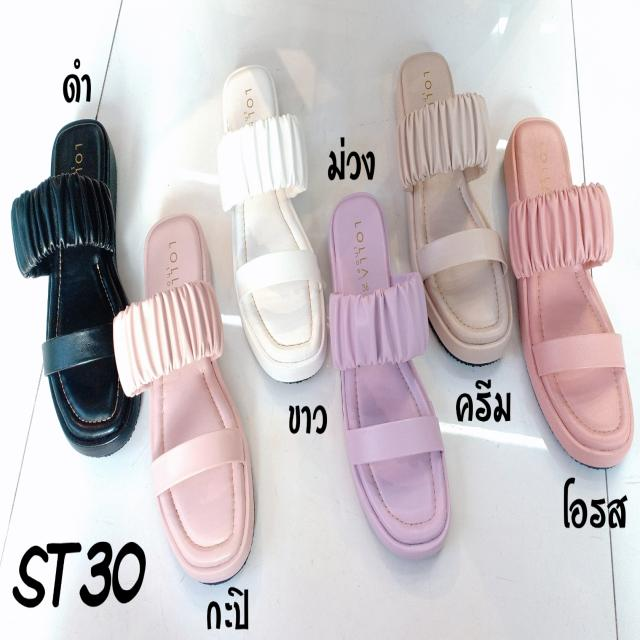black: (36, 116, 137, 461)
cream: (397, 49, 506, 369)
kapi: (143, 227, 248, 576)
orot: (508, 120, 631, 468)
purple: (334, 197, 447, 550)
white: (218, 69, 328, 378)
